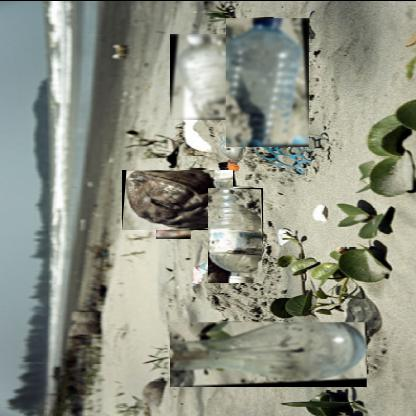bottle: (226, 16, 310, 146), (170, 32, 232, 119), (208, 186, 264, 282), (156, 225, 192, 238)
waste: (170, 320, 368, 386), (122, 166, 234, 228)
